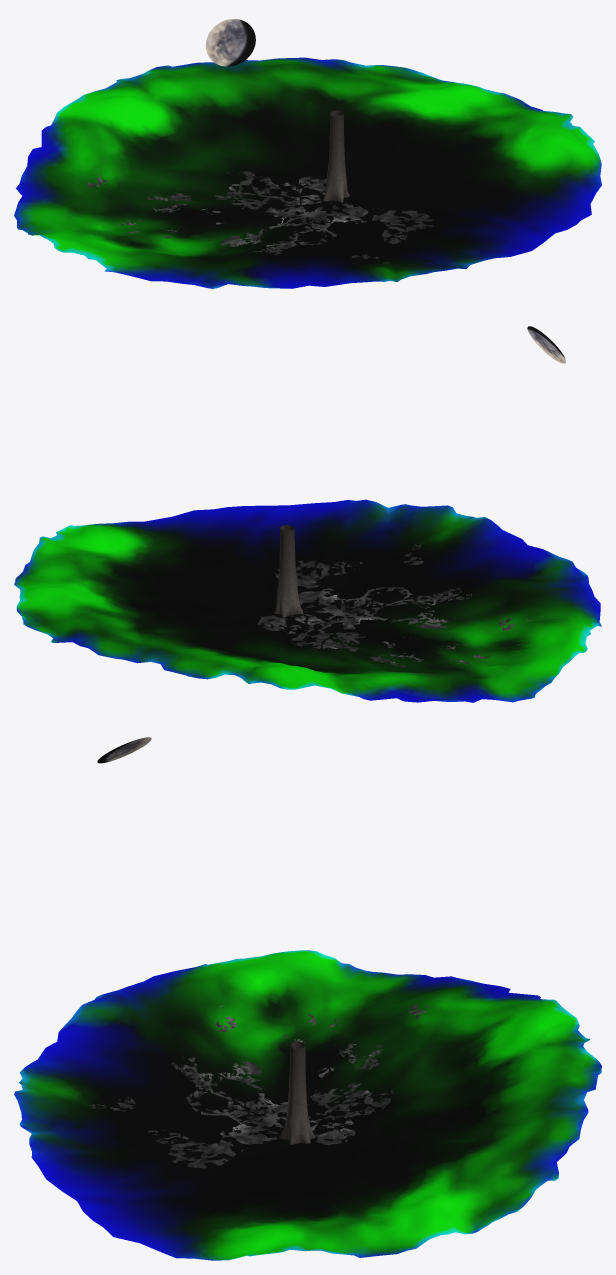
The model's file is CampfireEnvironment.fbx.
3 renders of one model, top to bottom at view 1: azimuth 30°, elevation 25°; view 2: azimuth 150°, elevation 25°; view 3: azimuth 270°, elevation 25°, orthographic. The views are drawn at different scales.
Parts seen in each view (by area): view 1: EnvironmentGround_geo, grassInstBase_geo, Moon_geo, OakTreeTrunk_geo; view 2: EnvironmentGround_geo, grassInstBase_geo, OakTreeTrunk_geo, Moon_geo; view 3: EnvironmentGround_geo, grassInstBase_geo, OakTreeTrunk_geo.
Part boxes in pixels (box(x1,y1,x2,y2)): EnvironmentGround_geo: box(14, 57, 601, 288); grassInstBase_geo: box(87, 171, 433, 263); Moon_geo: box(205, 19, 255, 66); OakTreeTrunk_geo: box(323, 110, 349, 202); EnvironmentGround_geo: box(14, 499, 601, 702); grassInstBase_geo: box(258, 543, 530, 675); OakTreeTrunk_geo: box(274, 525, 303, 617); Moon_geo: box(527, 326, 565, 363); EnvironmentGround_geo: box(14, 950, 601, 1260); grassInstBase_geo: box(88, 1003, 428, 1168); OakTreeTrunk_geo: box(279, 1042, 315, 1144).
Size of the model in its own units: 600 by 308 by 509.
